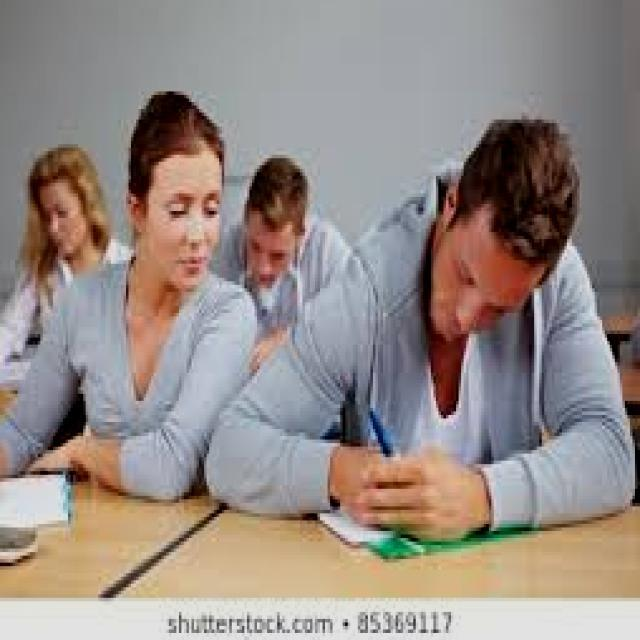cheating: (62, 86, 269, 524)
good: (269, 102, 640, 583)
